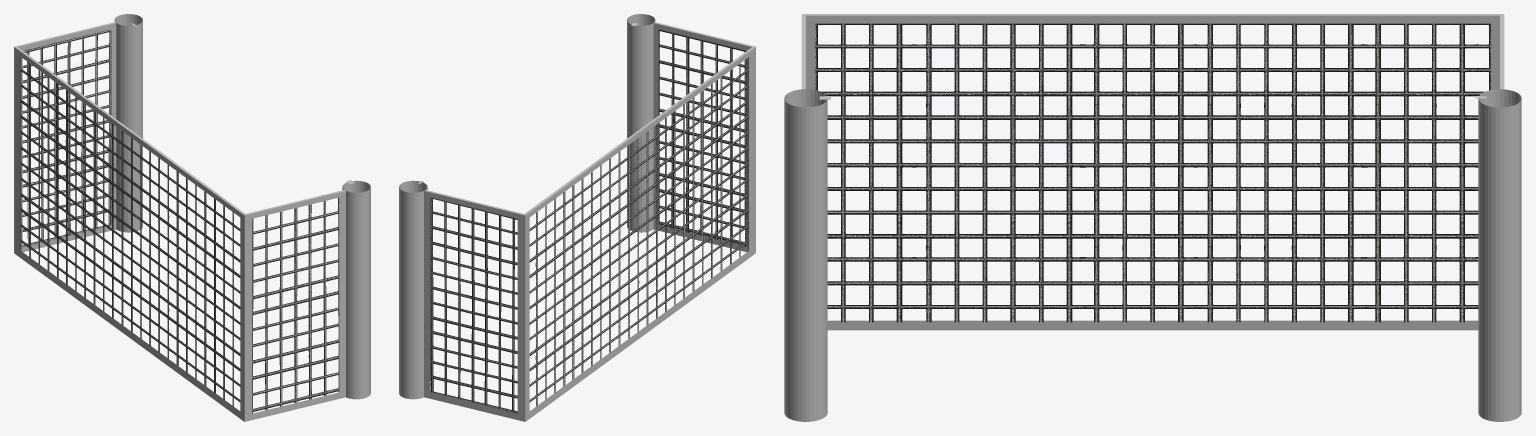
Rendered from spl-goalpost-v2.obj.
The picture shows the model from 3 angles, left to right: view 1: azimuth 30°, elevation 25°; view 2: azimuth 150°, elevation 25°; view 3: azimuth 270°, elevation 25°; orthographic projection. The views are drawn at different scales.
Visible parts, largest first — view 1: GoalPost_Cylinder.003; view 2: GoalPost_Cylinder.003; view 3: GoalPost_Cylinder.003.
Part boxes in pixels (x1,y1,x2,y2): GoalPost_Cylinder.003: [14, 14, 370, 421]; GoalPost_Cylinder.003: [399, 14, 755, 421]; GoalPost_Cylinder.003: [784, 14, 1521, 421].
Size of the model in its own units: 5.1 by 8.01 by 17.
2 materials, 1 textured.
